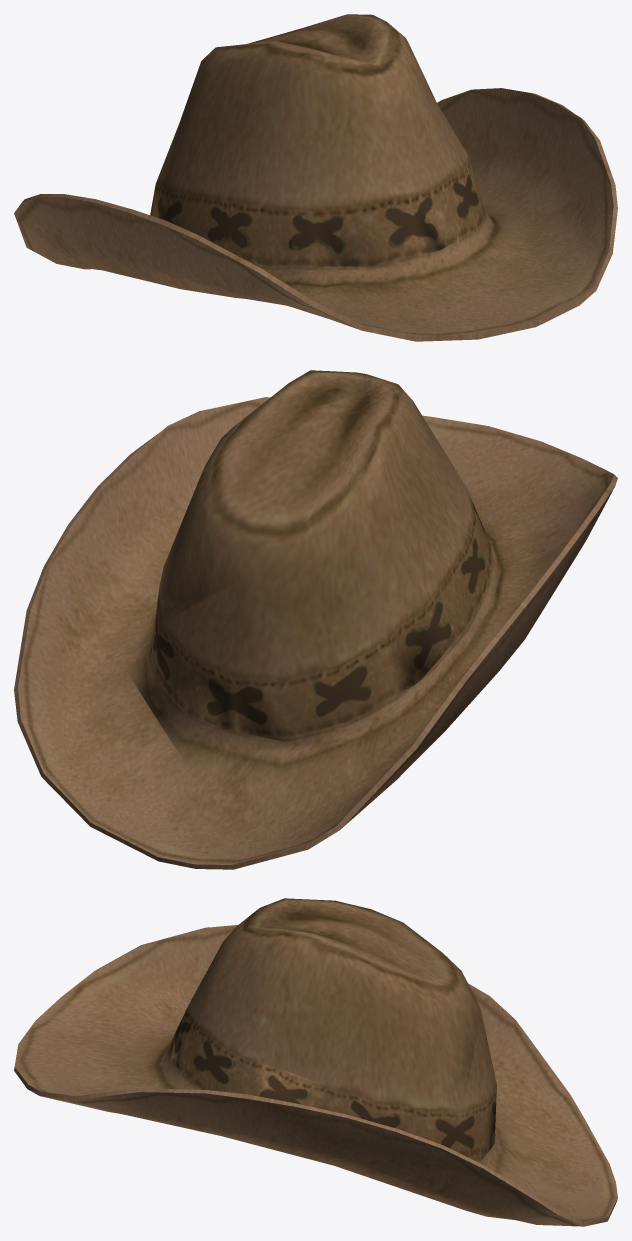
The model's file is Hat 1.FBX.
3 views of the same model, one above another, from view 1: azimuth 30°, elevation 25°; view 2: azimuth 150°, elevation 25°; view 3: azimuth 270°, elevation 25° (orthographic). The views are drawn at different scales.
Visible parts, largest first — view 1: hat 1; view 2: hat 1; view 3: hat 1.
Part boxes in pixels (left/top/right/bottom): hat 1: left=14, top=14, right=617, bottom=341; hat 1: left=14, top=370, right=617, bottom=869; hat 1: left=14, top=898, right=617, bottom=1226.
Size of the model in its own units: 21.23 by 29.75 by 15.59.
Materials: 1 (1 with a texture image).
